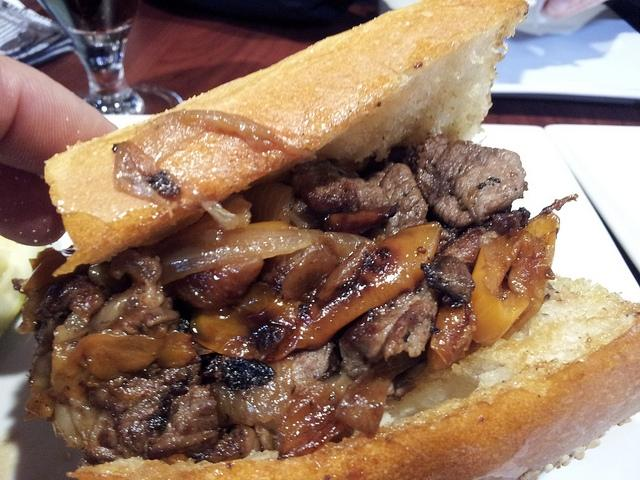onion: (112, 109, 316, 211), (88, 227, 374, 294), (471, 212, 562, 346), (334, 344, 427, 438), (276, 378, 354, 460), (430, 304, 478, 366), (89, 284, 137, 335), (244, 182, 294, 224), (200, 200, 252, 230)
